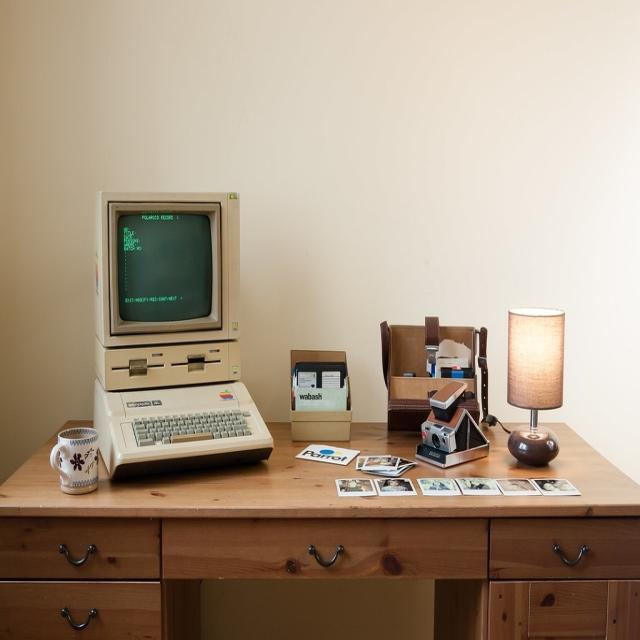E-waste: (92, 161, 276, 480)
